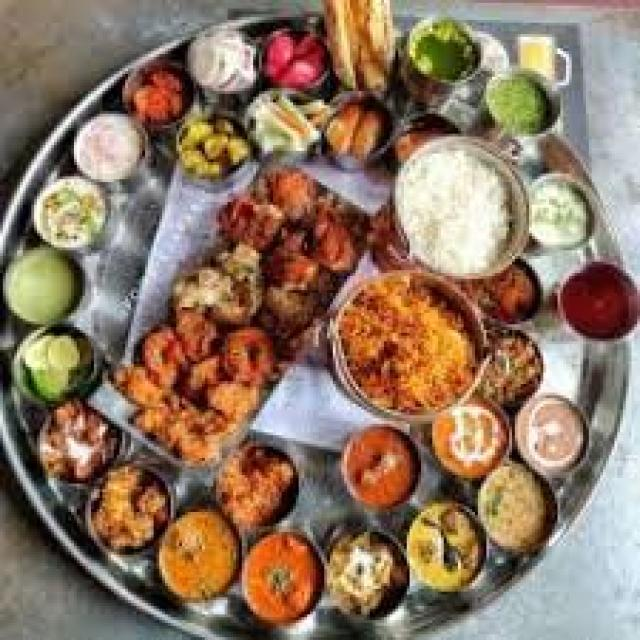pickle: (113, 49, 202, 129)
rice: (389, 145, 531, 279)
roti: (222, 158, 365, 338)
sweet: (332, 416, 430, 510), (1, 243, 96, 331), (519, 394, 596, 469), (471, 263, 546, 327)
veg-fry: (233, 523, 330, 628), (30, 394, 131, 485), (332, 419, 434, 506)
